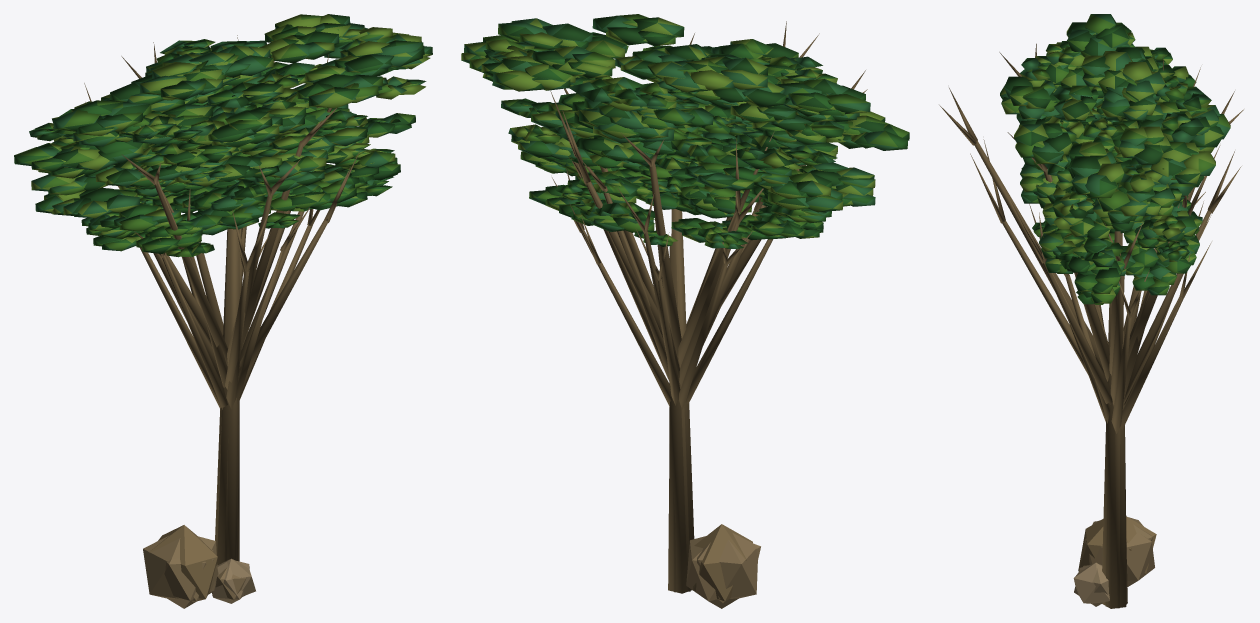
File: tree-prototypes.glb
The picture shows the model from 3 angles, left to right: view 1: azimuth 30°, elevation 25°; view 2: azimuth 150°, elevation 25°; view 3: azimuth 270°, elevation 25°; orthographic projection. The views are drawn at different scales.
Visible parts, largest first — view 1: hm02_tree_prototype_2, hm02_tree_prototype_0, hm02_tree_prototype_1; view 2: hm02_tree_prototype_2, hm02_tree_prototype_0, hm02_tree_prototype_1; view 3: hm02_tree_prototype_2, hm02_tree_prototype_0, hm02_tree_prototype_1.
Boxes of the visible parts, left/top/right/bottom form: hm02_tree_prototype_2: left=14, top=14, right=432, bottom=603; hm02_tree_prototype_0: left=31, top=83, right=415, bottom=608; hm02_tree_prototype_1: left=81, top=157, right=400, bottom=602; hm02_tree_prototype_2: left=461, top=14, right=909, bottom=598; hm02_tree_prototype_0: left=501, top=98, right=875, bottom=608; hm02_tree_prototype_1: left=520, top=151, right=831, bottom=602; hm02_tree_prototype_2: left=939, top=14, right=1243, bottom=608; hm02_tree_prototype_0: left=970, top=95, right=1241, bottom=608; hm02_tree_prototype_1: left=1021, top=148, right=1211, bottom=603.
Bounding box in the file's own units: 5.03 × 6.02 × 3.19.
